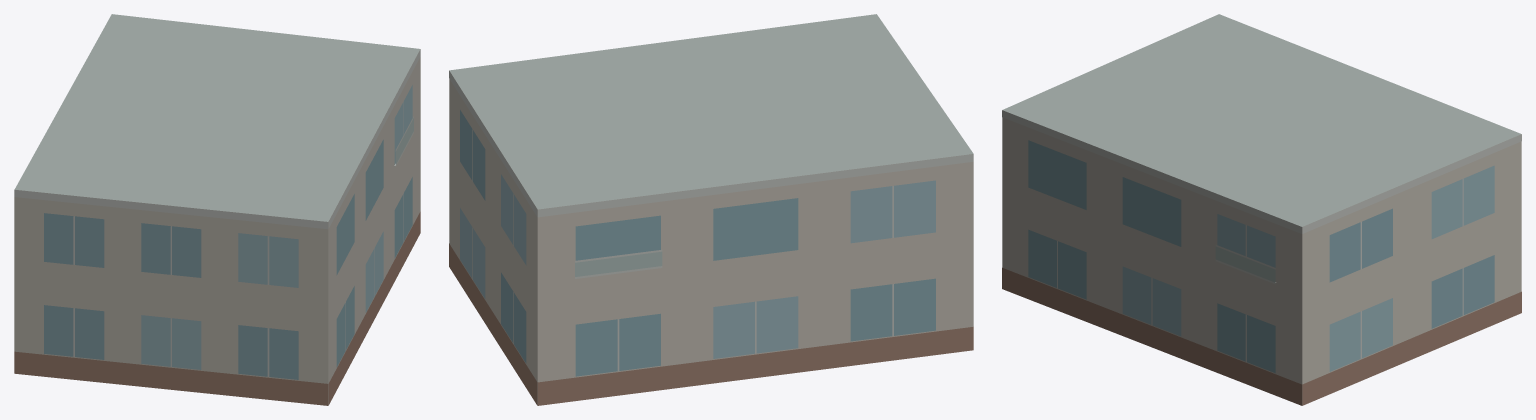
File: survey-upis-32848950.glb
3 views of the same model, side by side, from view 1: azimuth 30°, elevation 25°; view 2: azimuth 150°, elevation 25°; view 3: azimuth 270°, elevation 25° (orthographic). The views are drawn at different scales.
Parts seen in each view (by area): view 1: survey-upis-32848950.tmp; view 2: survey-upis-32848950.tmp; view 3: survey-upis-32848950.tmp.
Part boxes in pixels (x1=…): survey-upis-32848950.tmp: x1=14, y1=14, x2=420, y2=405; survey-upis-32848950.tmp: x1=449, y1=14, x2=973, y2=405; survey-upis-32848950.tmp: x1=1002, y1=14, x2=1521, y2=405.
Bounding box in the file's own units: 15.58 × 6.1 × 16.07.
